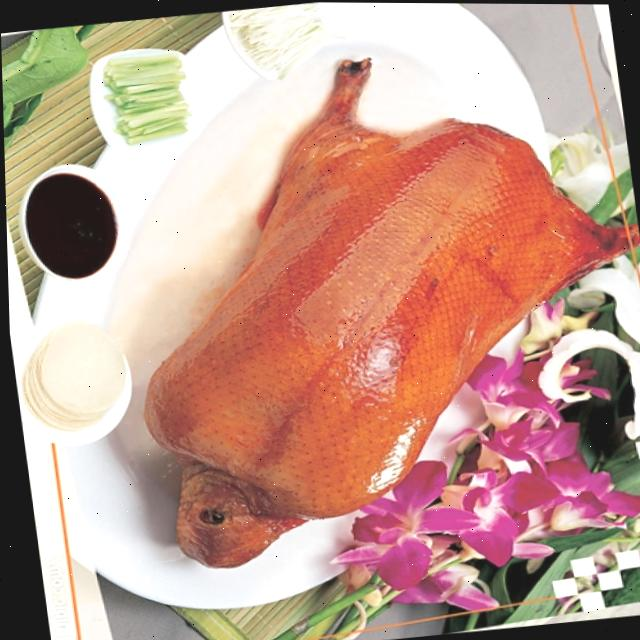烧串烤肉: (90, 31, 640, 587)
